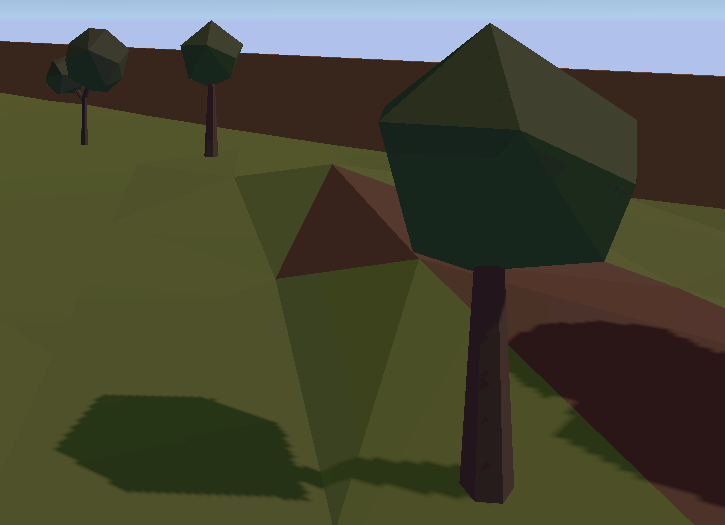tree: (381, 23, 639, 507), (46, 27, 130, 150), (178, 18, 244, 161)
